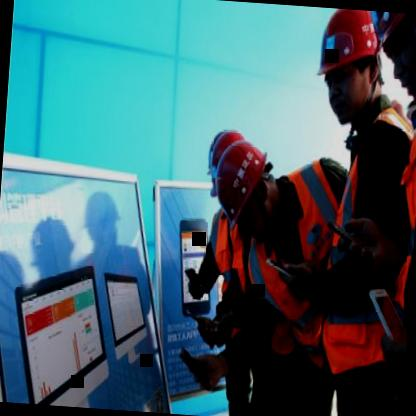helmet: (309, 7, 389, 134), (204, 130, 284, 231), (359, 10, 416, 109)
